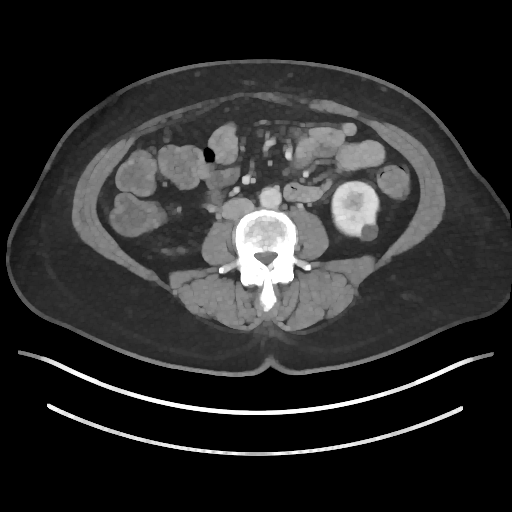Lesion: (356, 221, 381, 242)
